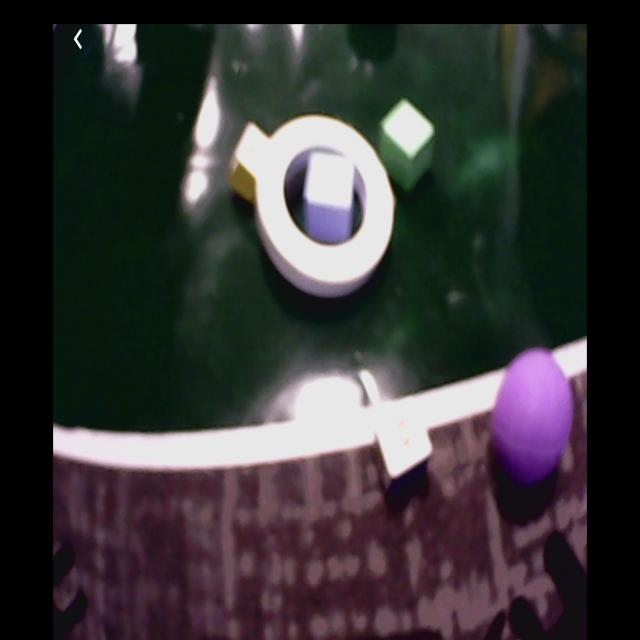ball: (496, 353, 574, 475)
